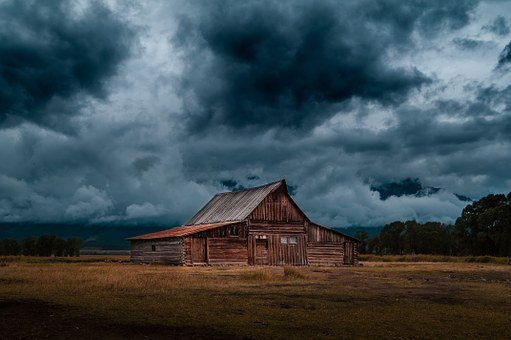field: (10, 254, 511, 336)
house: (141, 185, 357, 267)
sky: (4, 5, 498, 201)
